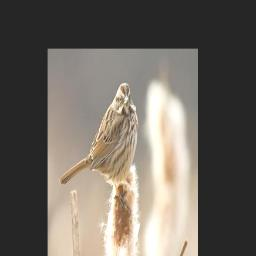Sparrow: (59, 81, 139, 214)
